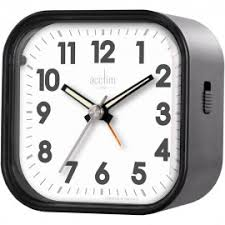alarm_clock: (6, 13, 220, 211)
